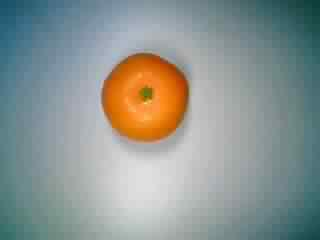orange: (96, 48, 193, 145)
